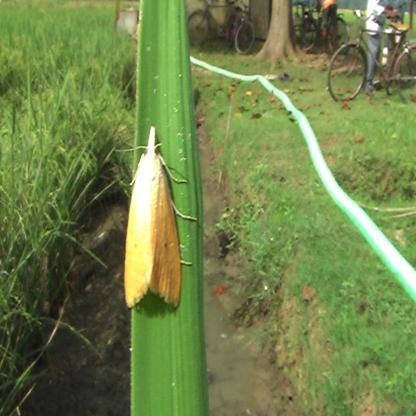stem-borer: (124, 122, 200, 313)
